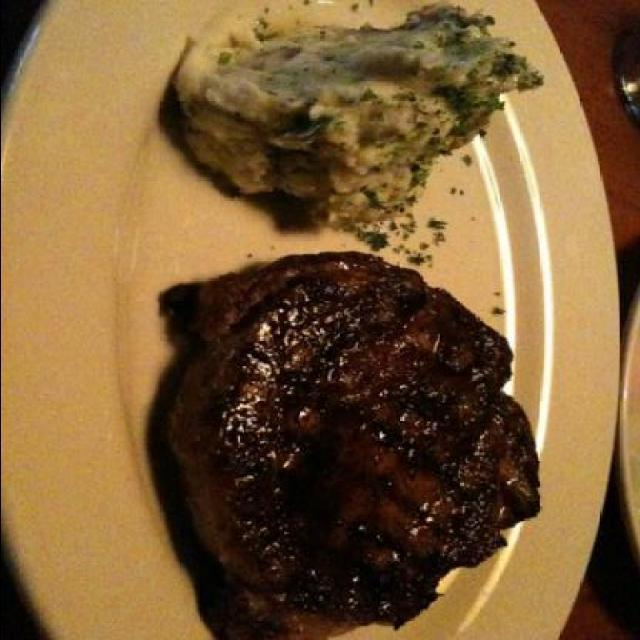Steak: (96, 244, 527, 638)
